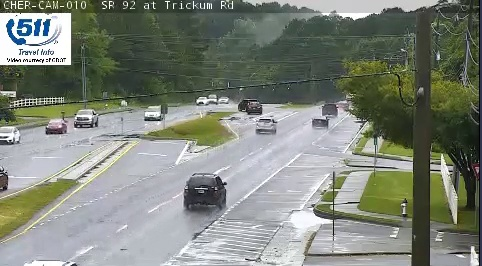car: (183, 174, 226, 207), (256, 117, 276, 132), (311, 116, 328, 129)
